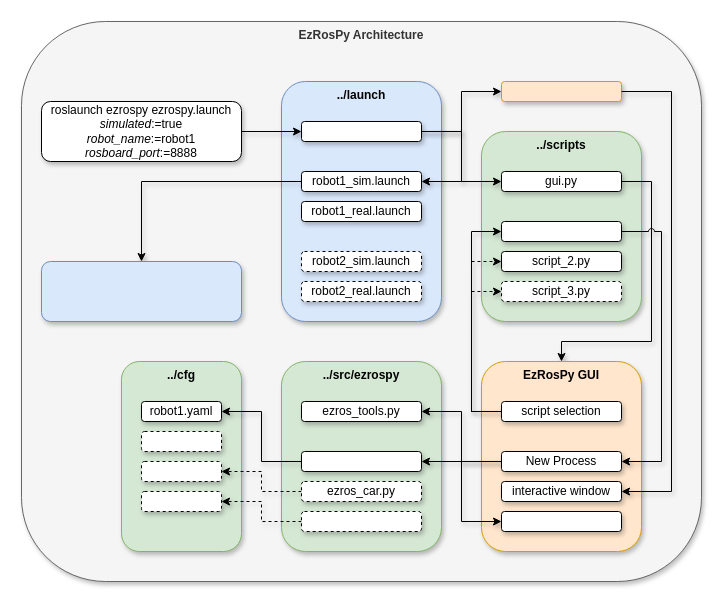
This 725x606 diagram has some shape labels left out. Here are the shapes that lost their labels. From the top down, the centre of each, then its label:
At [562,92]: "rosboard".
At [362,132]: "ezrospy.launch".
At [562,232]: "script_1.py".
At [142,292]: "launches related ROS nodes ex: simulation software, I/O nodes, perception nodes".
At [182,442]: "robot2.yaml".
At [362,462]: "ezros_robot.py".
At [182,472]: "car.yaml".
At [182,502]: "drone.yaml".
At [362,522]: "ezros_drone .py".
At [562,522]: "process output".
